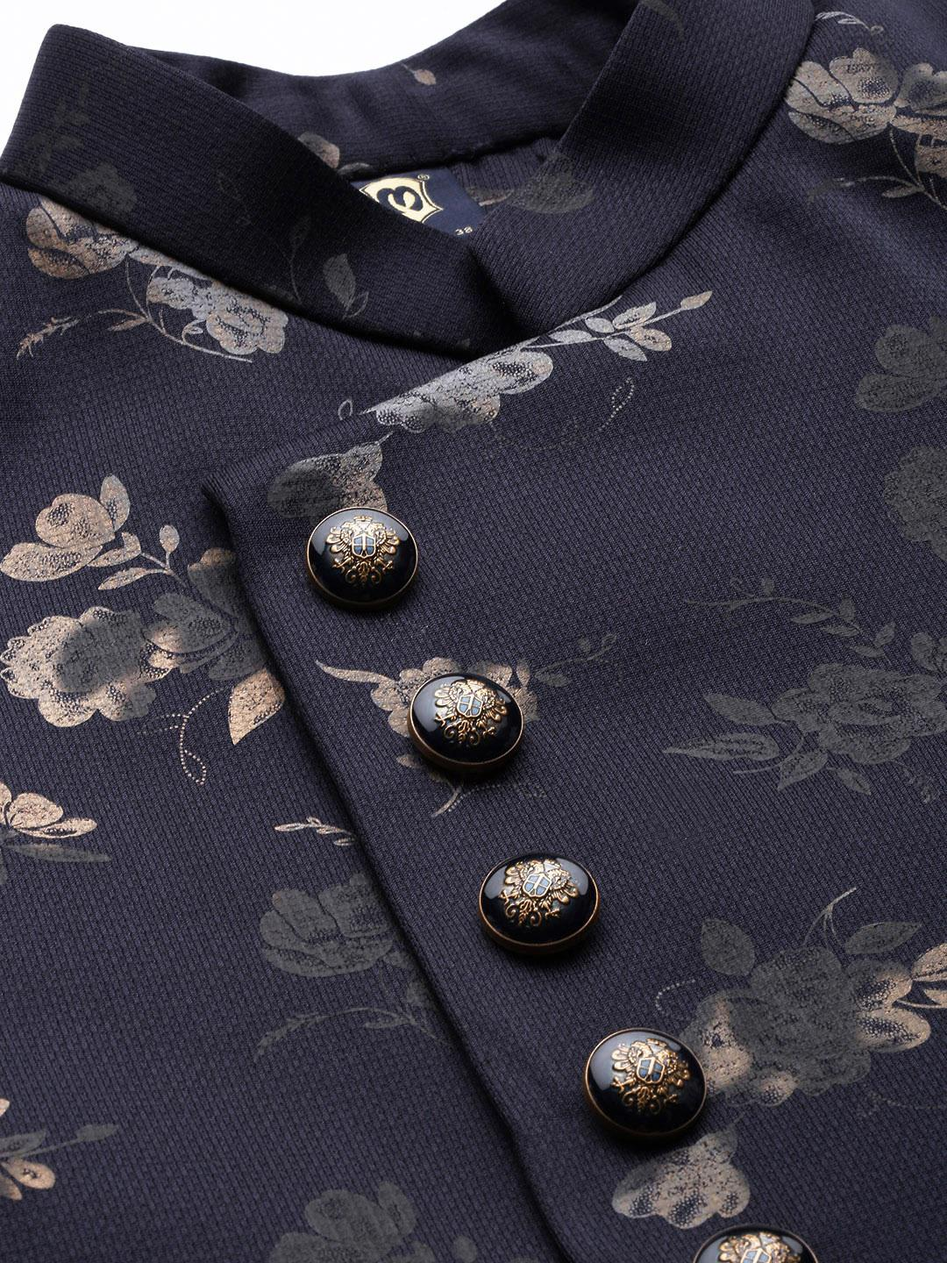Design Sherwani: (3, 4, 945, 1256)
